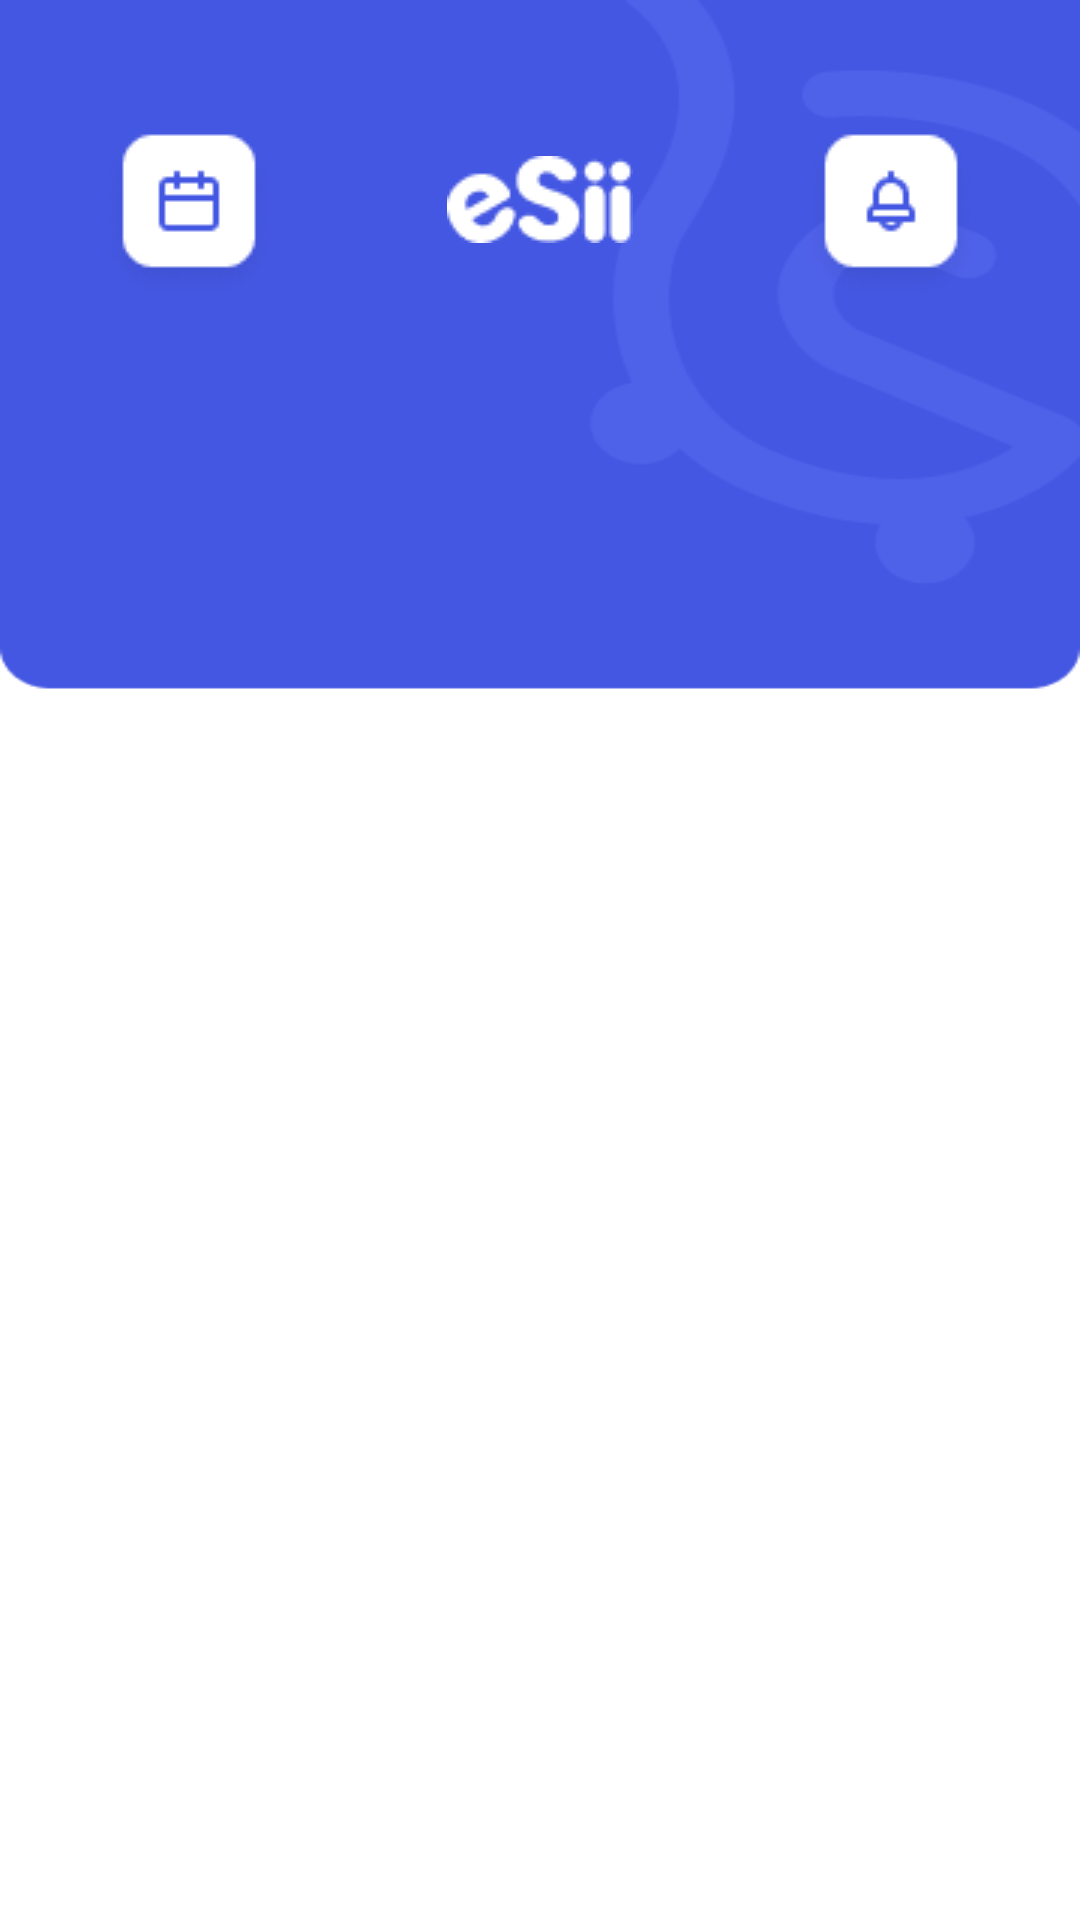

Where to tap for icons on this 1080×1920 app screen, as point (x, y):
cal: point (189, 201)
noti: point (891, 201)
